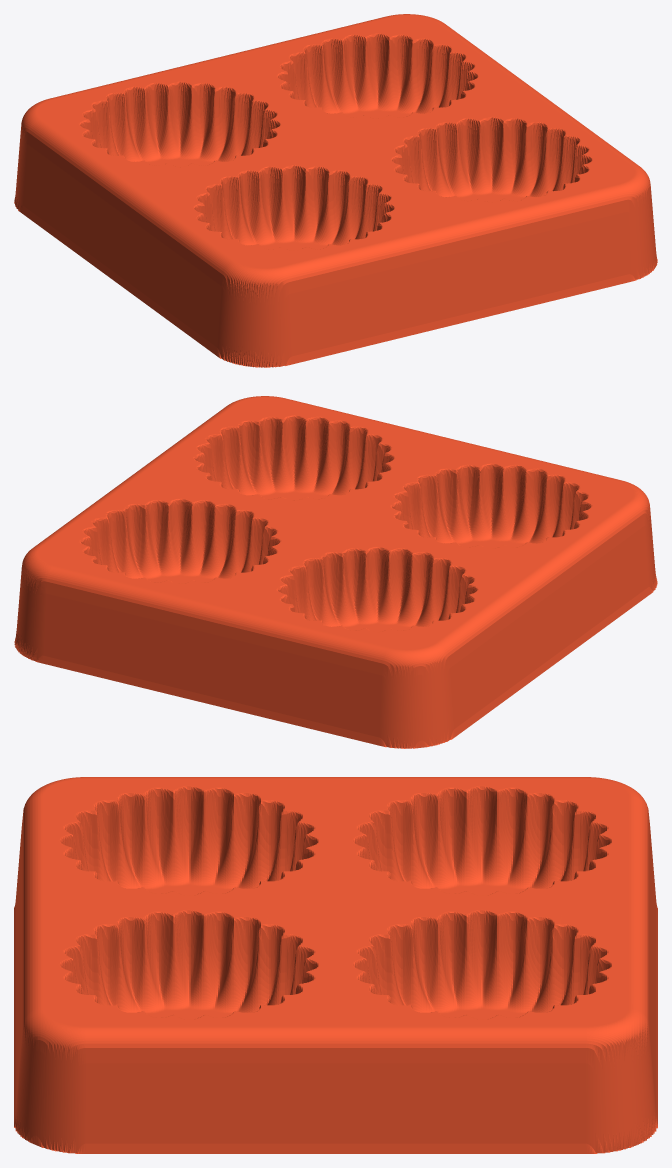
File: mold.glb
The picture shows the model from 3 angles, top to bottom: view 1: azimuth 30°, elevation 25°; view 2: azimuth 150°, elevation 25°; view 3: azimuth 270°, elevation 25°; orthographic projection. The views are drawn at different scales.
Visible parts, largest first — view 1: geometry_0; view 2: geometry_0; view 3: geometry_0.
Part boxes in pixels (x1,y1,x2,y2): geometry_0: [14, 14, 657, 367]; geometry_0: [14, 396, 657, 748]; geometry_0: [14, 777, 657, 1153].
Bounding box in the file's own units: 0.0808 × 0.0159 × 0.0808.
